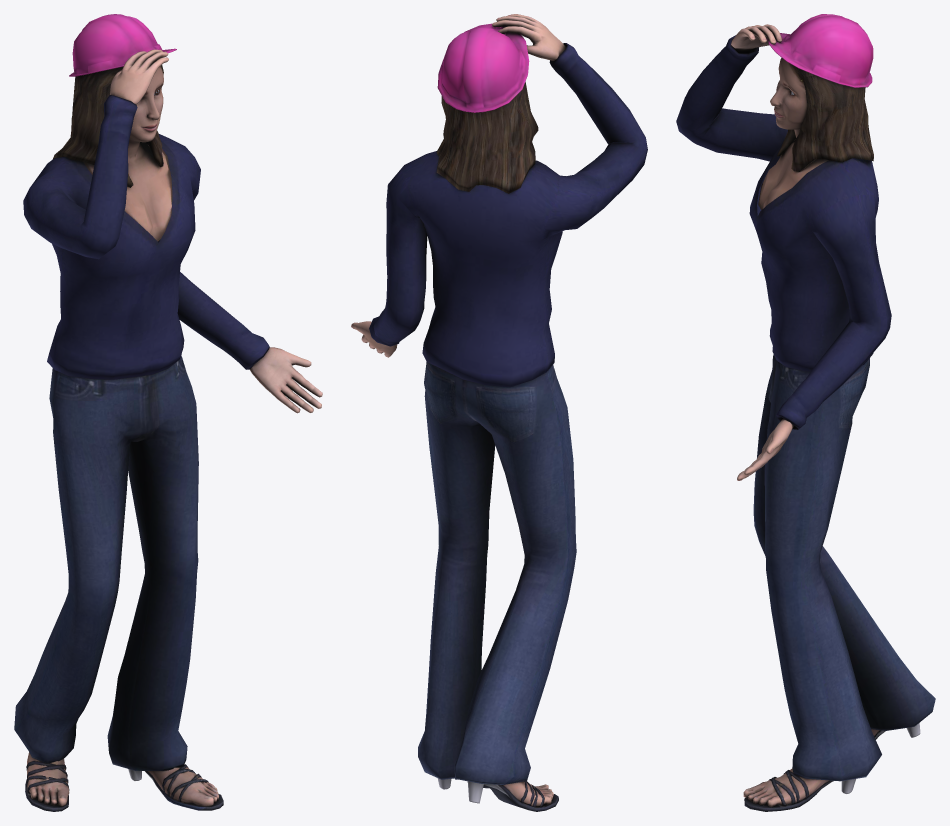
Rendered from SWRK01_08_01.FBX.
The picture shows the model from 3 angles, left to right: view 1: azimuth 30°, elevation 25°; view 2: azimuth 150°, elevation 25°; view 3: azimuth 270°, elevation 25°; orthographic projection. The views are drawn at different scales.
Parts seen in each view (by area): view 1: SWRK01_08_01; view 2: SWRK01_08_01; view 3: SWRK01_08_01.
Part boxes in pixels (x1,y1,x2,y2): SWRK01_08_01: (14, 14, 322, 811); SWRK01_08_01: (351, 14, 647, 811); SWRK01_08_01: (676, 14, 935, 811).
Size of the model in its own units: 23.75 by 65.41 by 20.26.
Materials: 1 (1 with a texture image).
